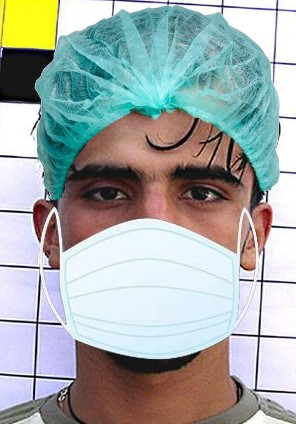with_mask_and_cap: (35, 7, 271, 369)
